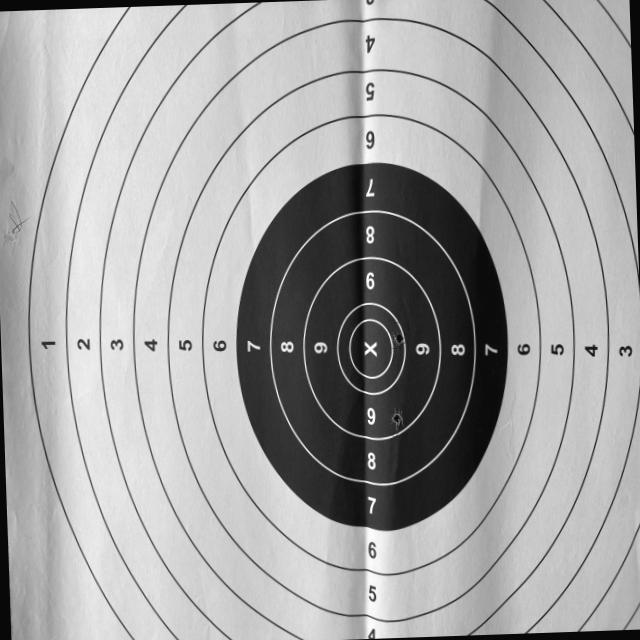bullet: (397, 333, 404, 345), (392, 414, 399, 425)
target: (0, 0, 640, 640)
